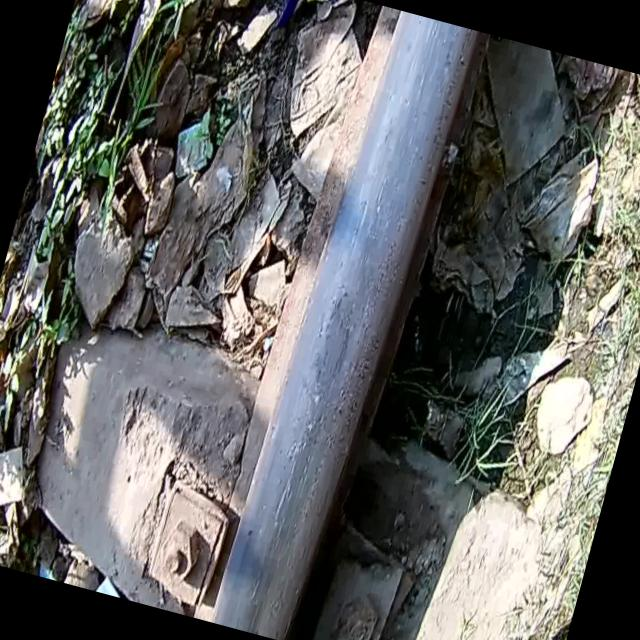Squats: (263, 264, 411, 434)
